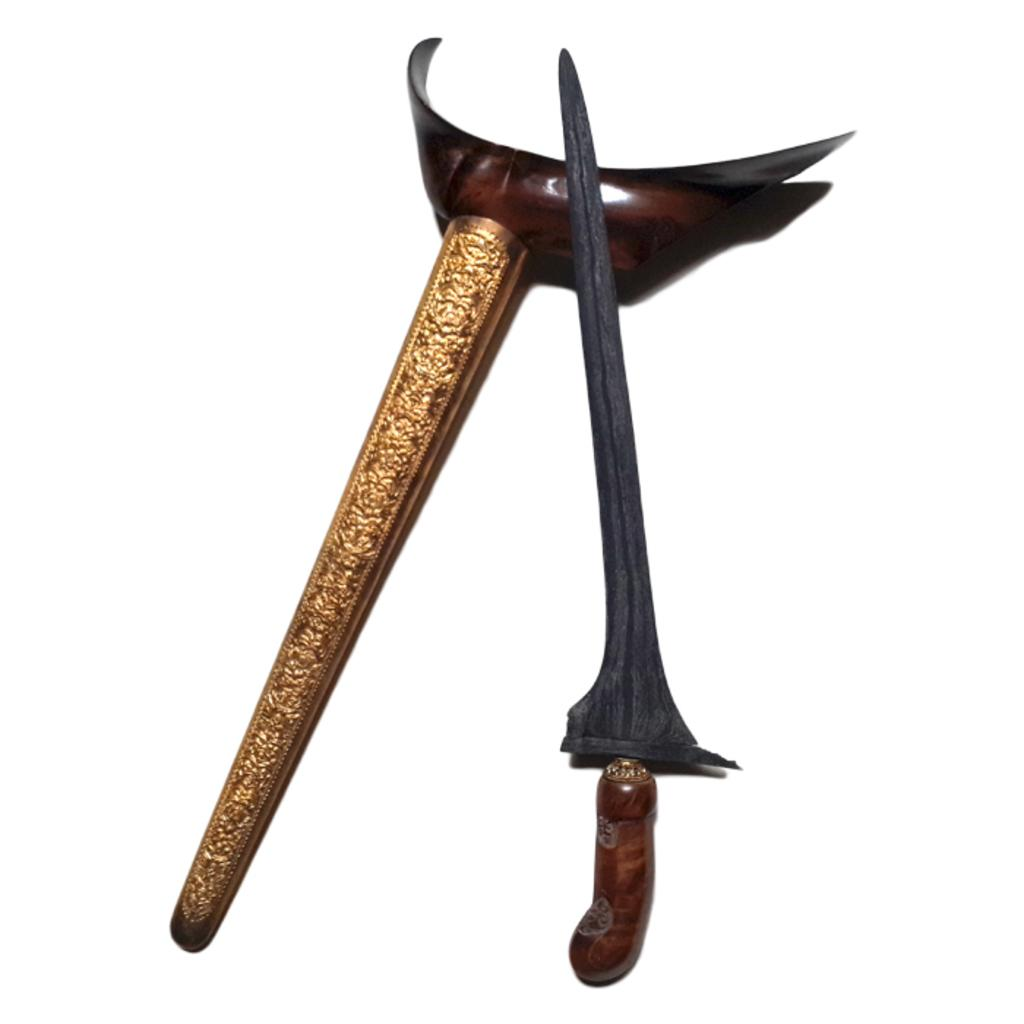Sword: (168, 26, 869, 992), (551, 45, 745, 993)
